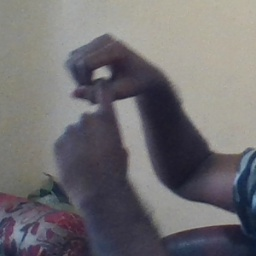Q: (52, 33, 145, 180)
